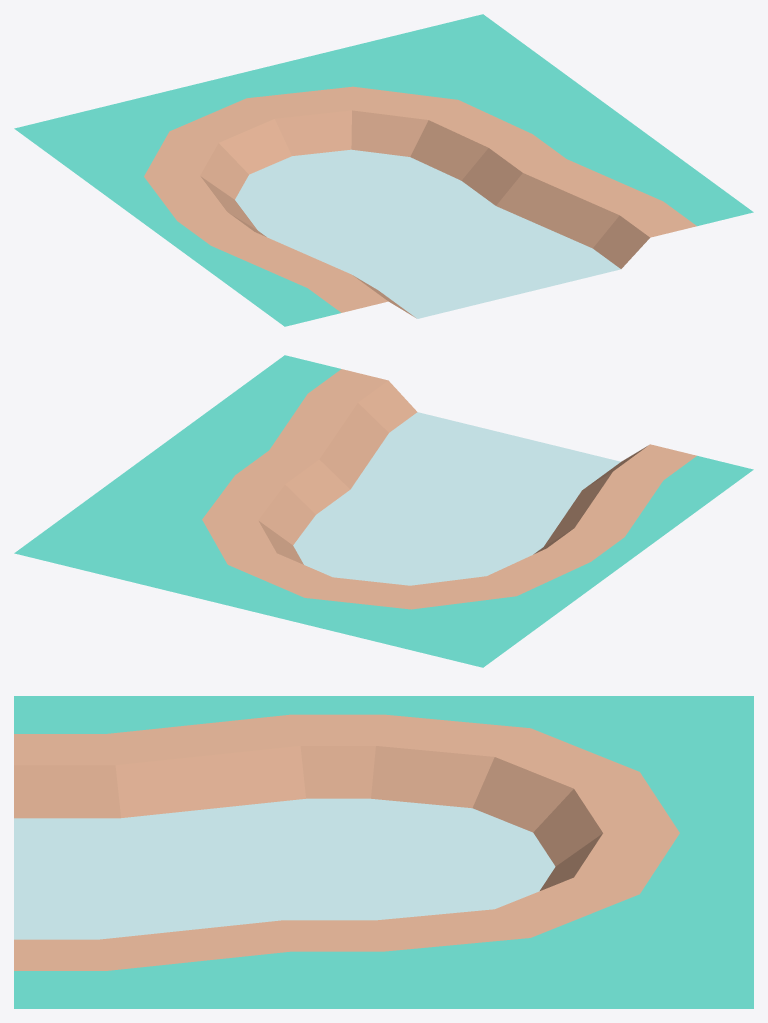
File: ground_riverEndClosed.glb
3 renders of one model, top to bottom at view 1: azimuth 30°, elevation 25°; view 2: azimuth 150°, elevation 25°; view 3: azimuth 270°, elevation 25°, orthographic. The views are drawn at different scales.
Visible parts, largest first — view 1: ground_riverEndClosed; view 2: ground_riverEndClosed; view 3: ground_riverEndClosed.
Part boxes in pixels (<box>): ground_riverEndClosed: <box>14,14,753,326</box>; ground_riverEndClosed: <box>14,355,753,667</box>; ground_riverEndClosed: <box>14,696,753,1008</box>.
Bounding box in the file's own units: 1 × 0.0501 × 1.
